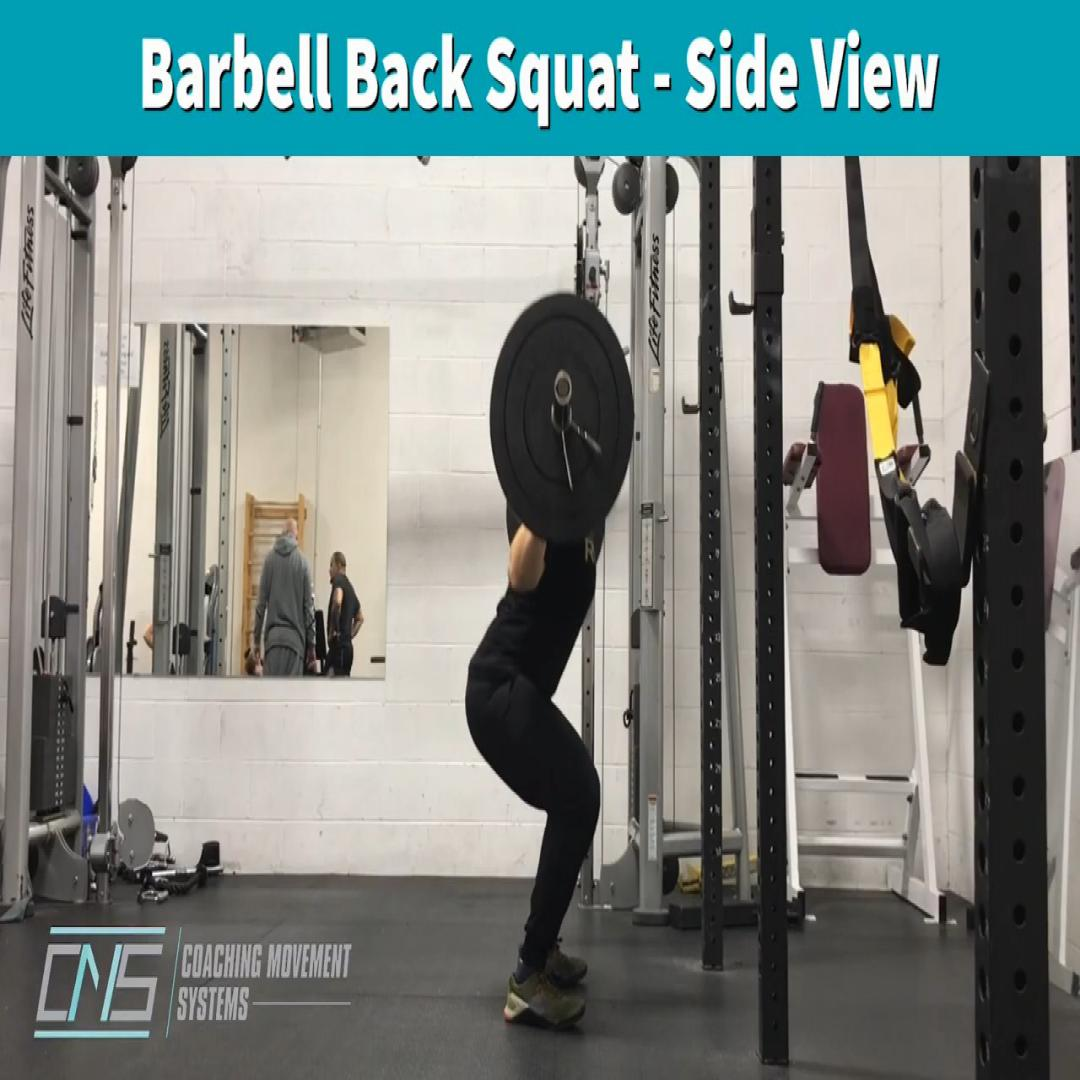Bar: (553, 368, 573, 406)
Barbell: (488, 291, 636, 546)
